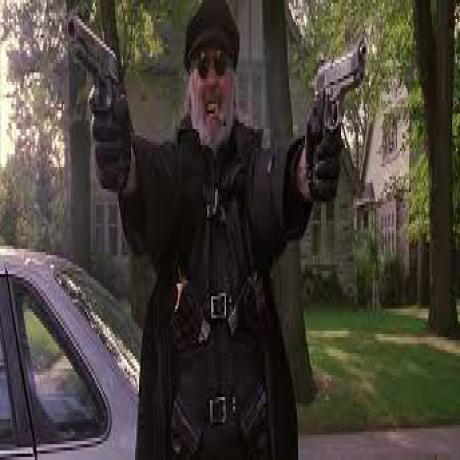Guns: (67, 9, 122, 156), (310, 49, 372, 177), (173, 265, 209, 359)
